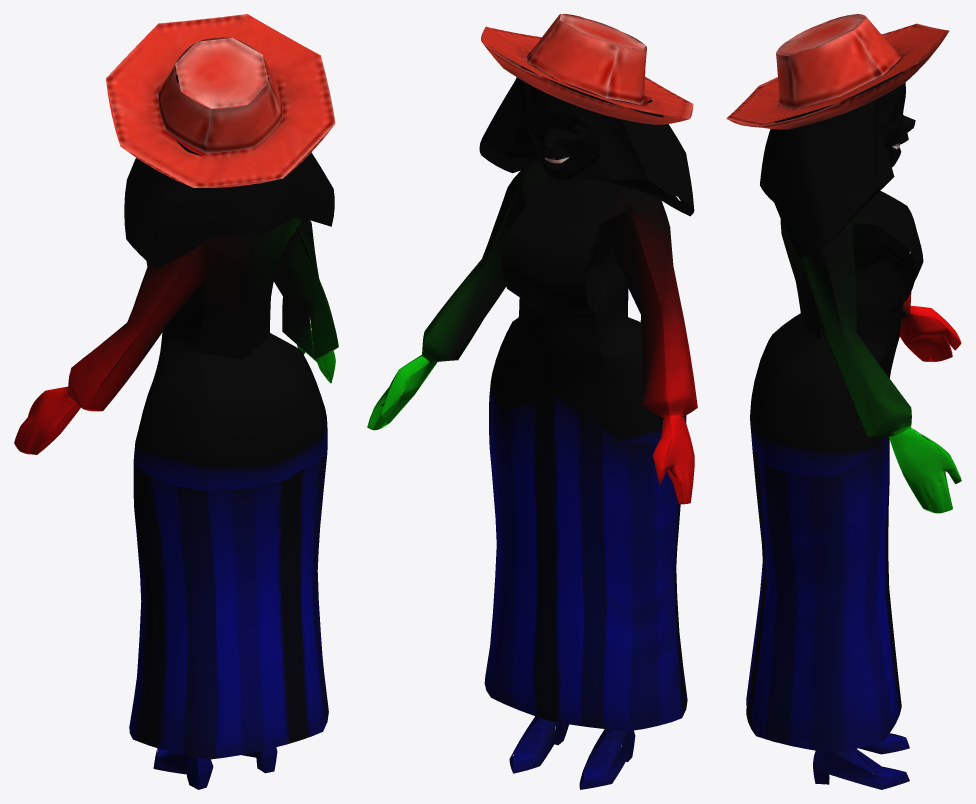
File: malena.glb
The picture shows the model from 3 angles, left to right: view 1: azimuth 30°, elevation 25°; view 2: azimuth 150°, elevation 25°; view 3: azimuth 270°, elevation 25°; orthographic projection. The views are drawn at different scales.
Visible parts, largest first — view 1: malena; view 2: malena; view 3: malena.
Part boxes in pixels (box(x1,y1,x2,y2)): malena: box(14, 14, 338, 789); malena: box(367, 14, 697, 789); malena: box(726, 14, 961, 789).
Size of the model in its own units: 0.8568 by 1.9 by 0.5473.
Materials: 2 (2 with a texture image).
